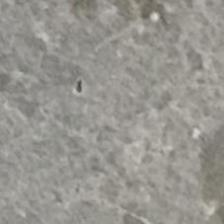Non_Crack: (15, 36, 190, 173)
